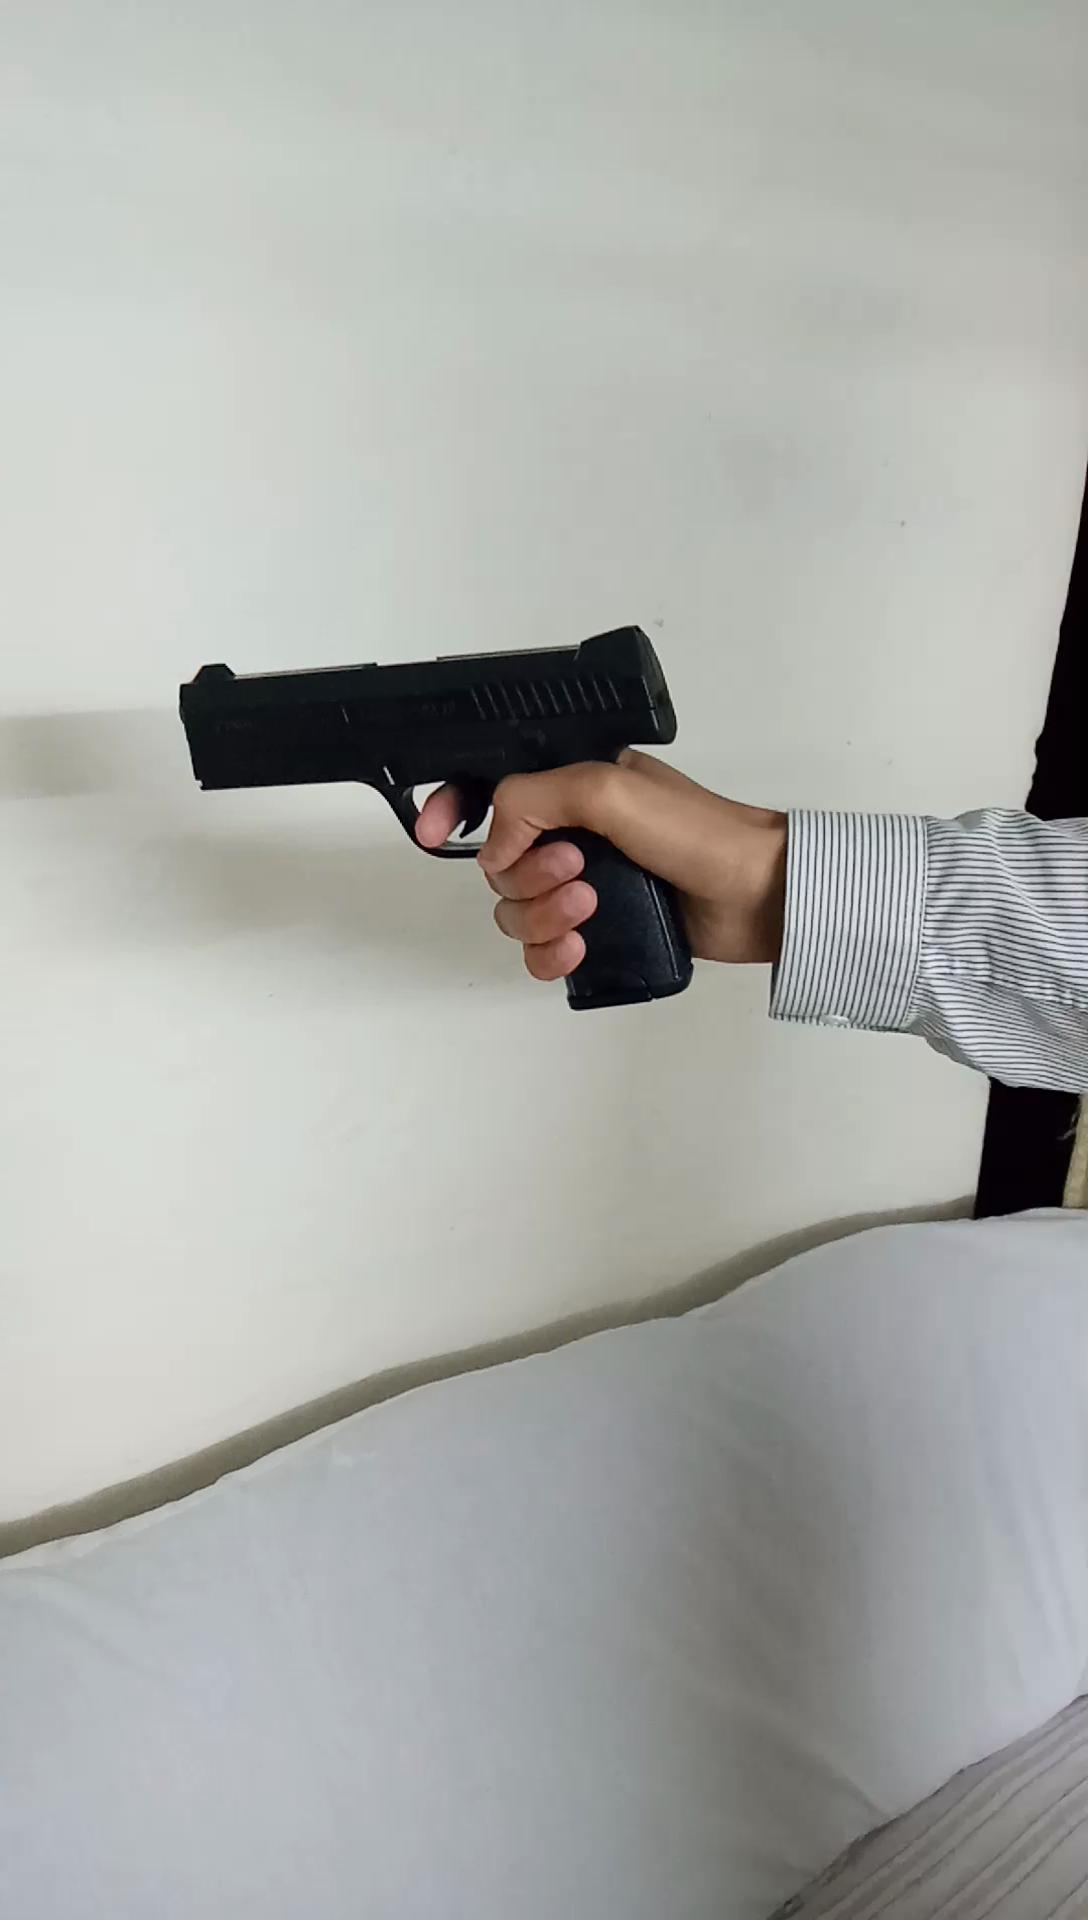weapon: (164, 601, 721, 1033)
